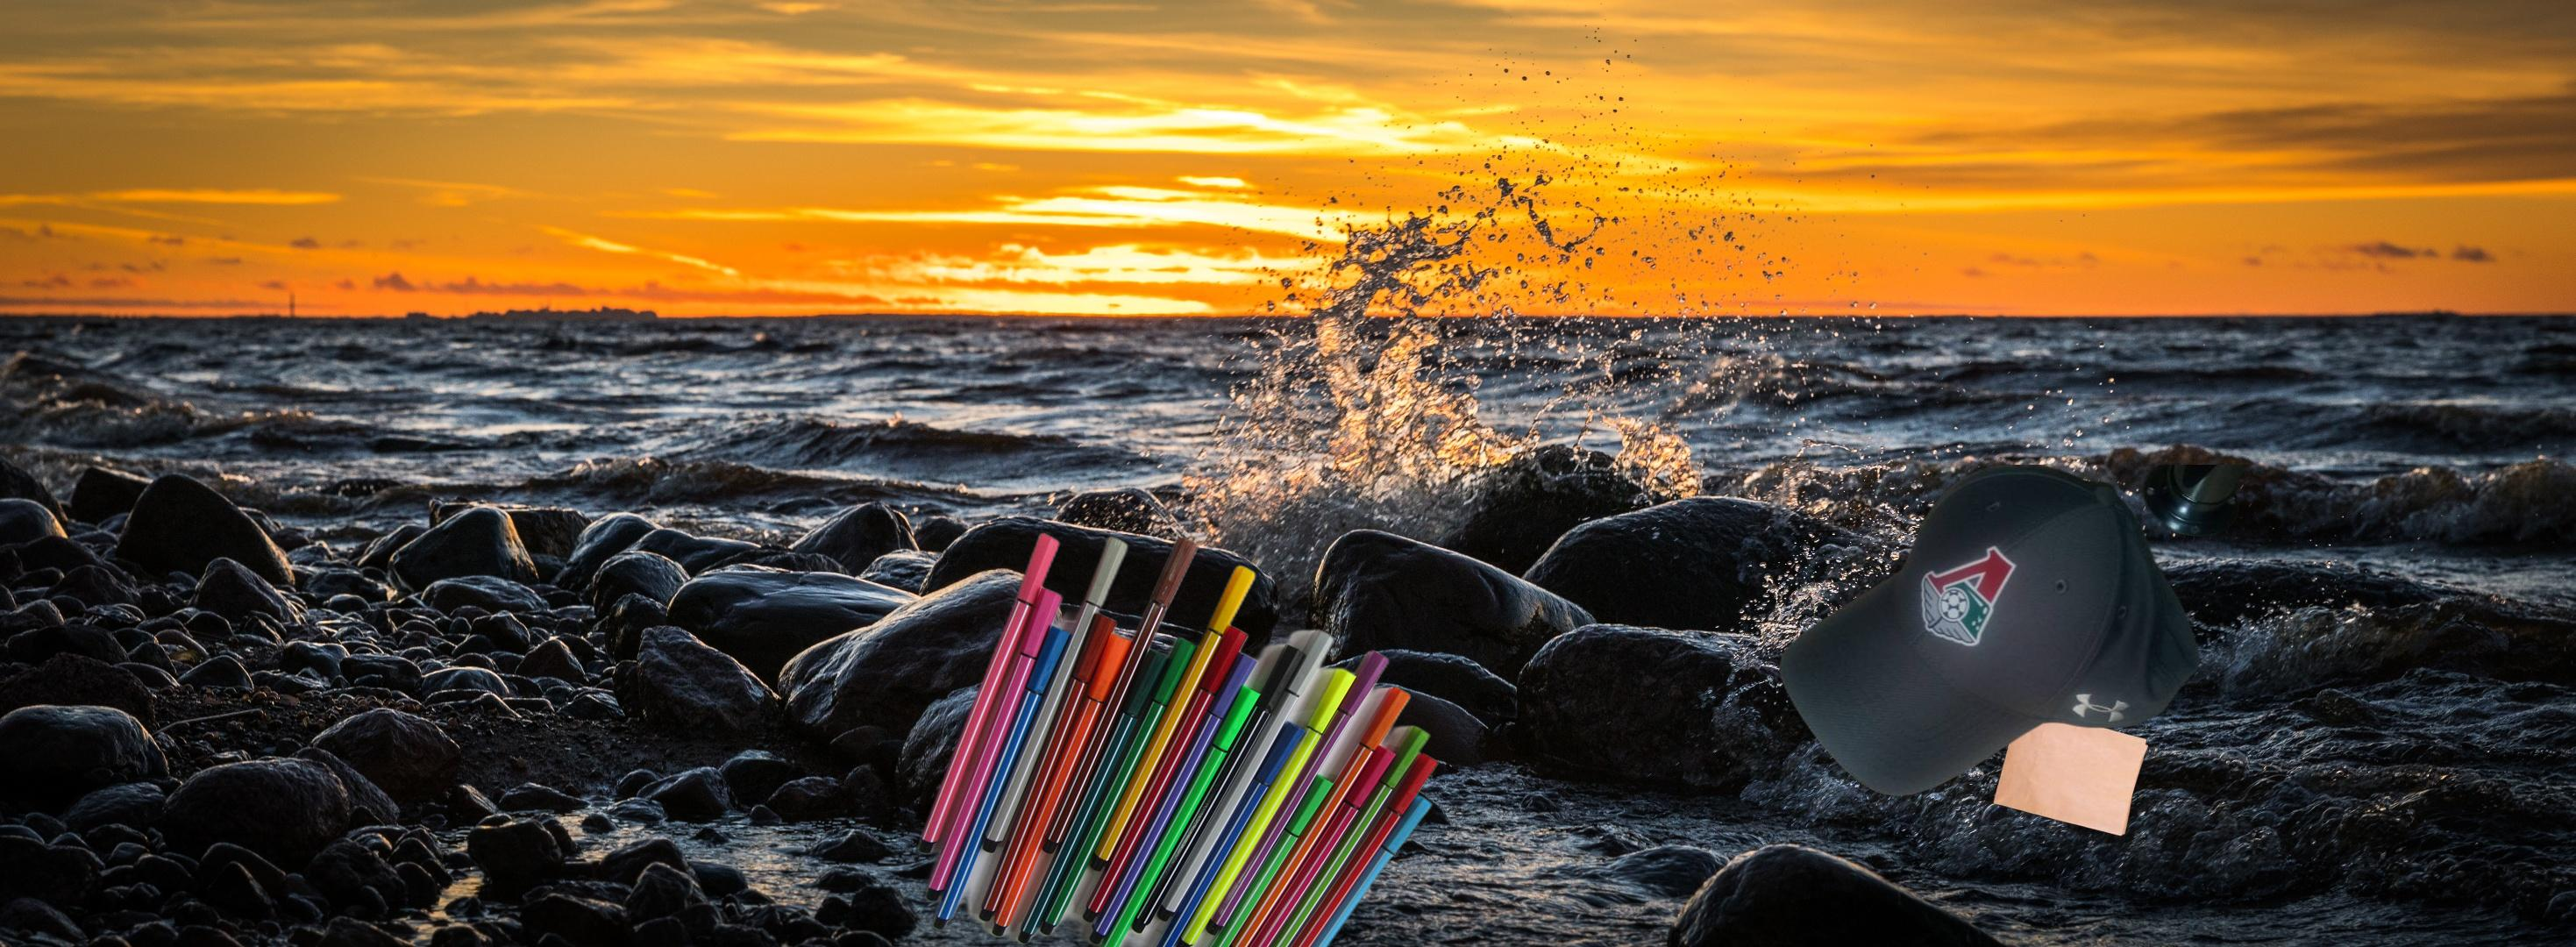clothes: (1774, 465, 2261, 797)
paper-bag: (1991, 704, 2150, 838)
penholder: (912, 528, 1444, 947)
